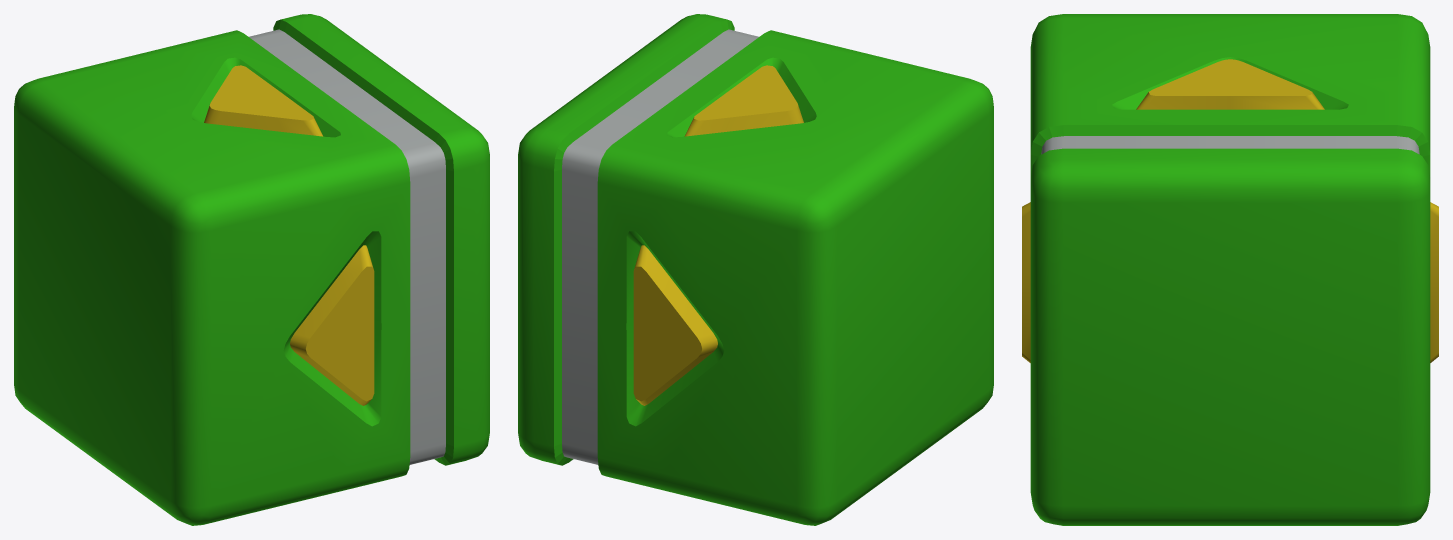
The picture shows the model from 3 angles, left to right: view 1: azimuth 30°, elevation 25°; view 2: azimuth 150°, elevation 25°; view 3: azimuth 270°, elevation 25°; orthographic projection. The views are drawn at different scales.
Visible parts, largest first — view 1: FK-09-1; view 2: FK-09-1; view 3: FK-09-1.
Boxes of the visible parts, x1,y1,x2,y2 form: FK-09-1: [14, 14, 489, 525]; FK-09-1: [518, 14, 993, 525]; FK-09-1: [1022, 14, 1438, 525].
Bounding box in the file's own units: 9.6 × 10.01 × 10.01.
